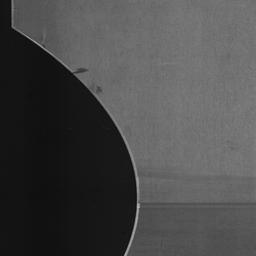Crescent gap: (11, 22, 137, 256)
